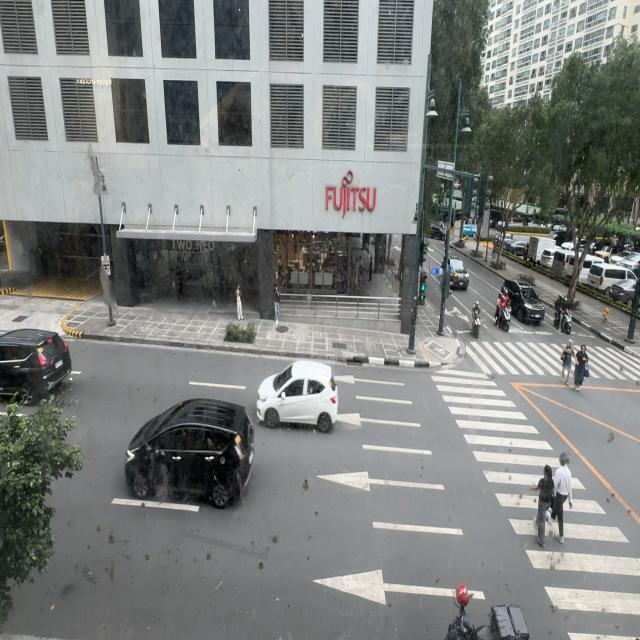crossing: (549, 452, 573, 544), (531, 464, 555, 548)
jaywalking: (560, 339, 576, 386), (574, 344, 588, 390)
pedestrain: (273, 282, 281, 325), (236, 284, 243, 321)
